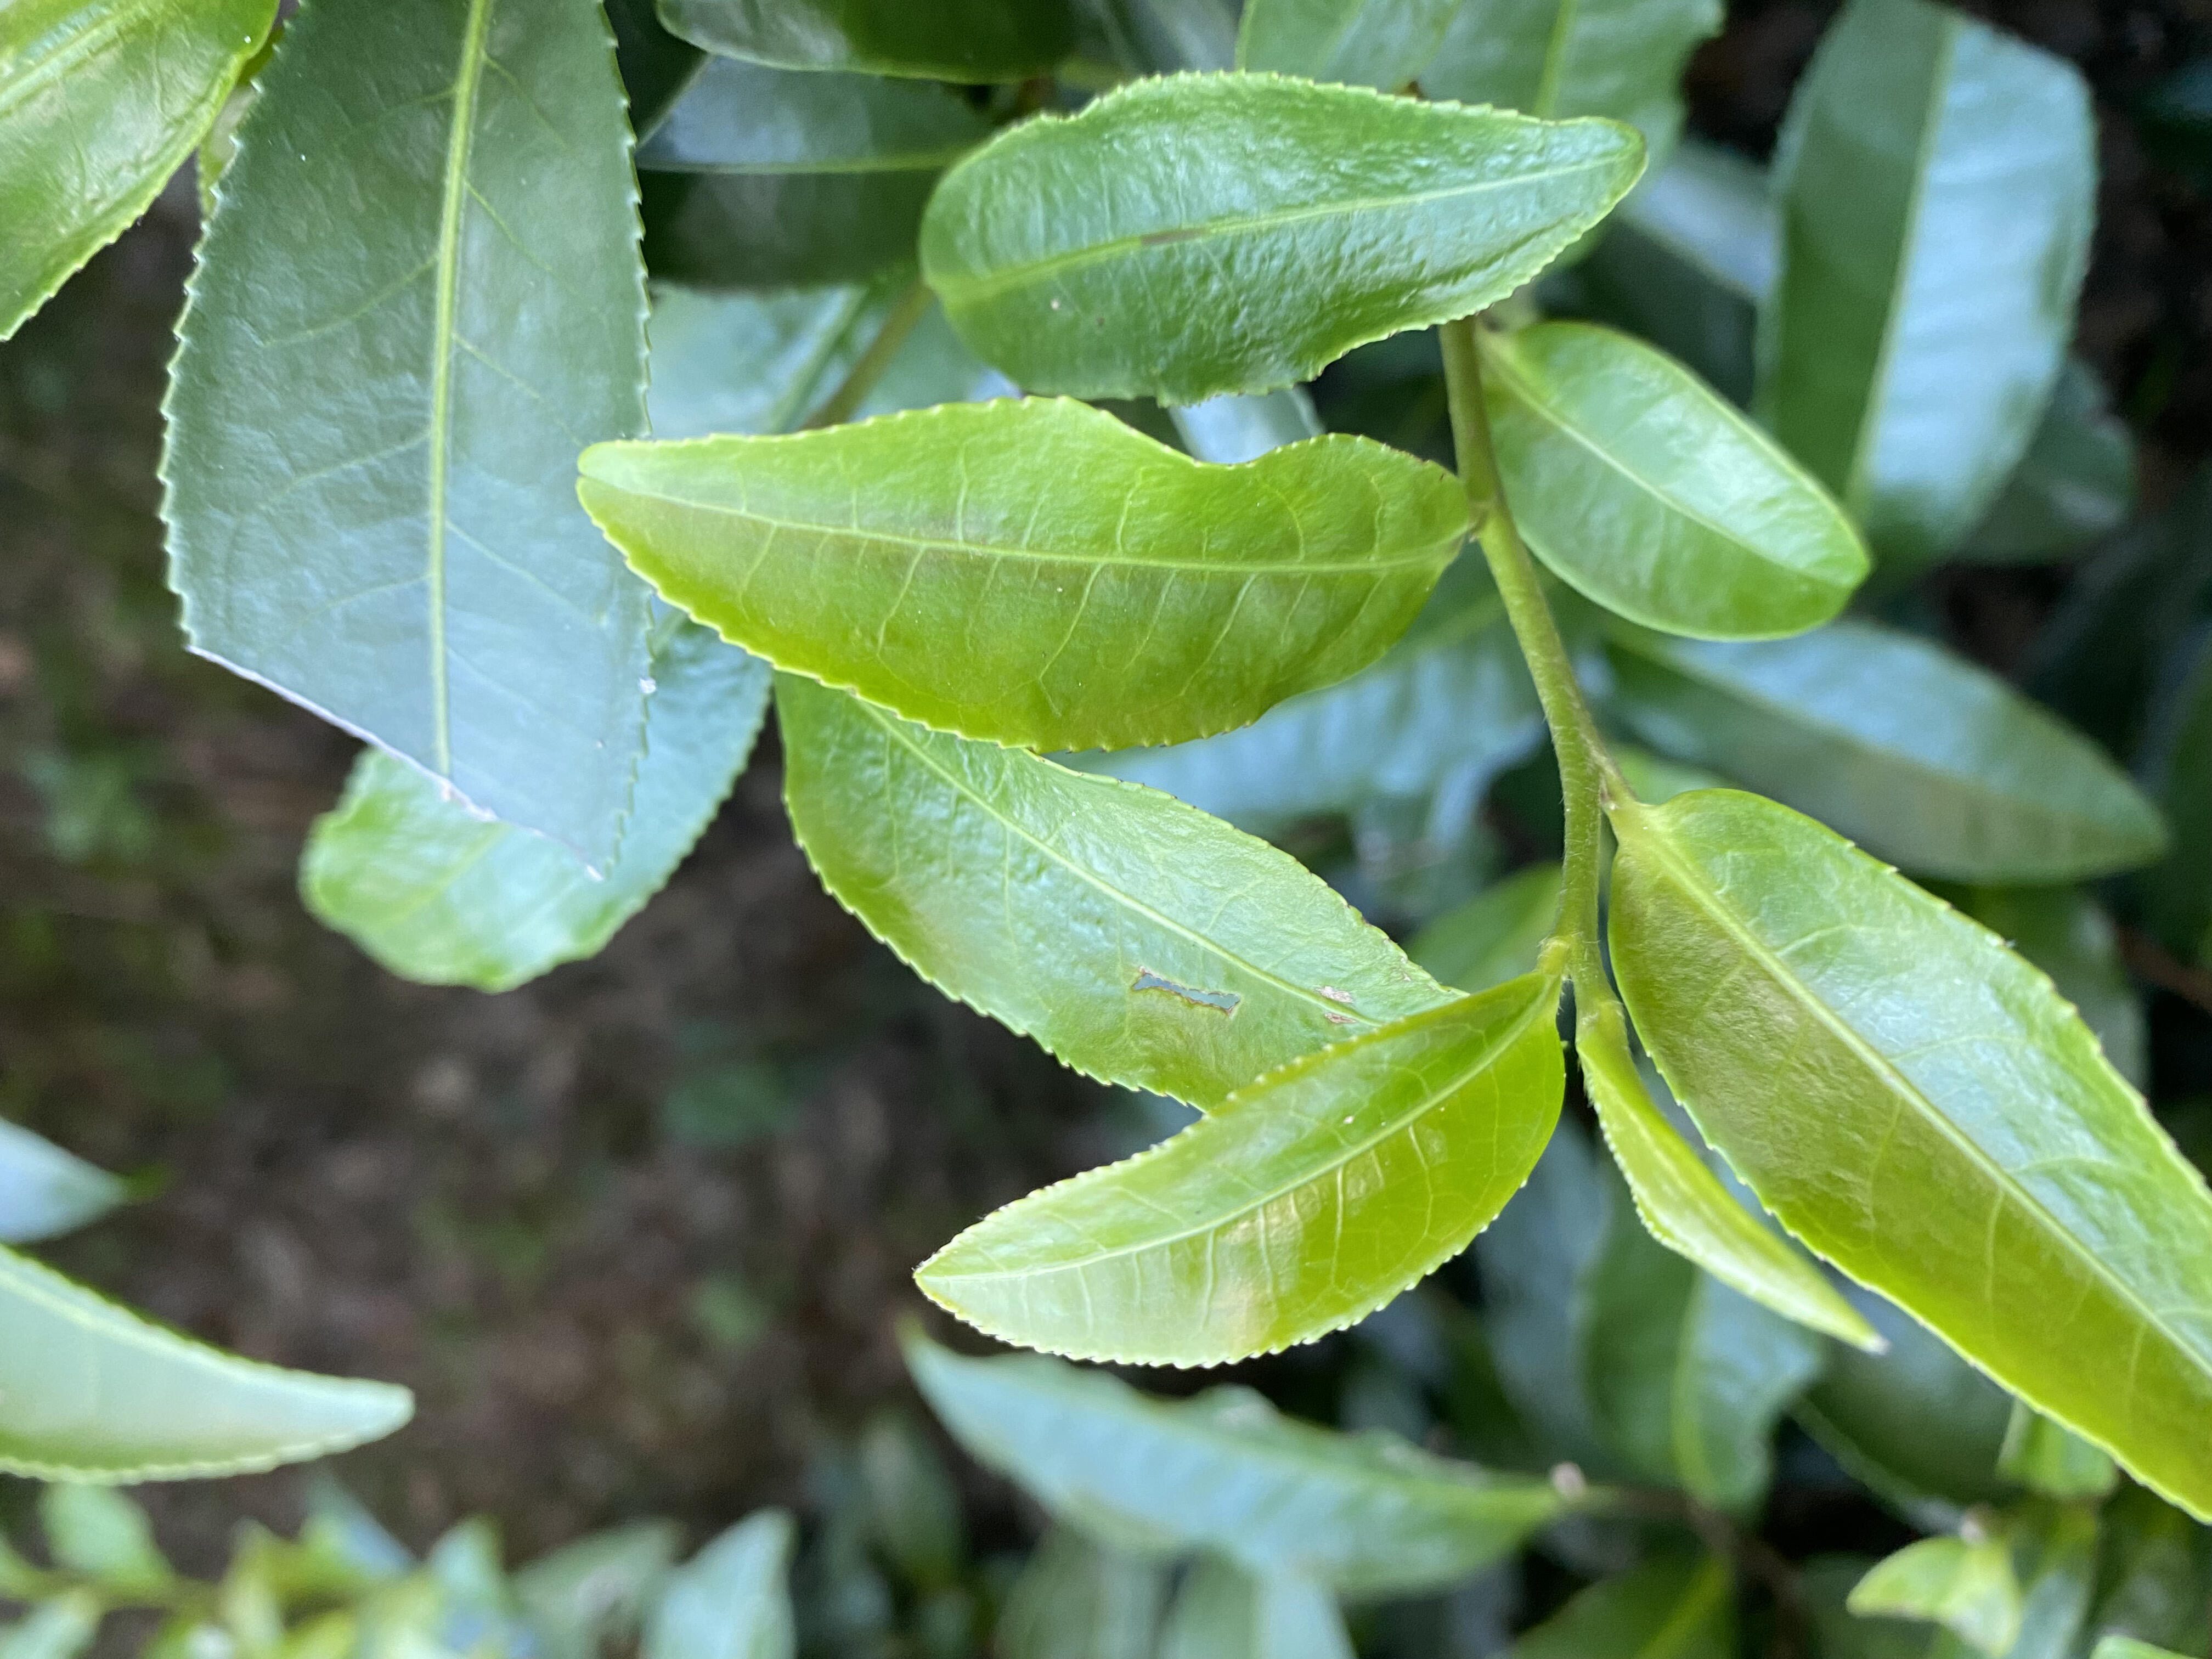chihuo_high: (150, 2, 657, 884)
chihuo_low: (770, 669, 1474, 1112)
healthy: (1604, 788, 2212, 1520), (575, 392, 1470, 760), (913, 976, 1569, 1373), (914, 64, 1651, 408), (1465, 317, 1871, 648)
